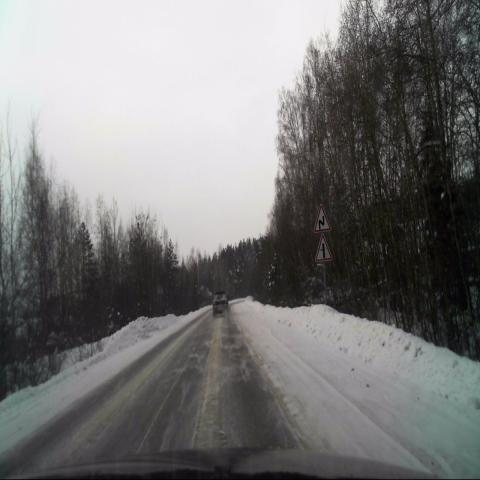1_12: (314, 203, 330, 232)
